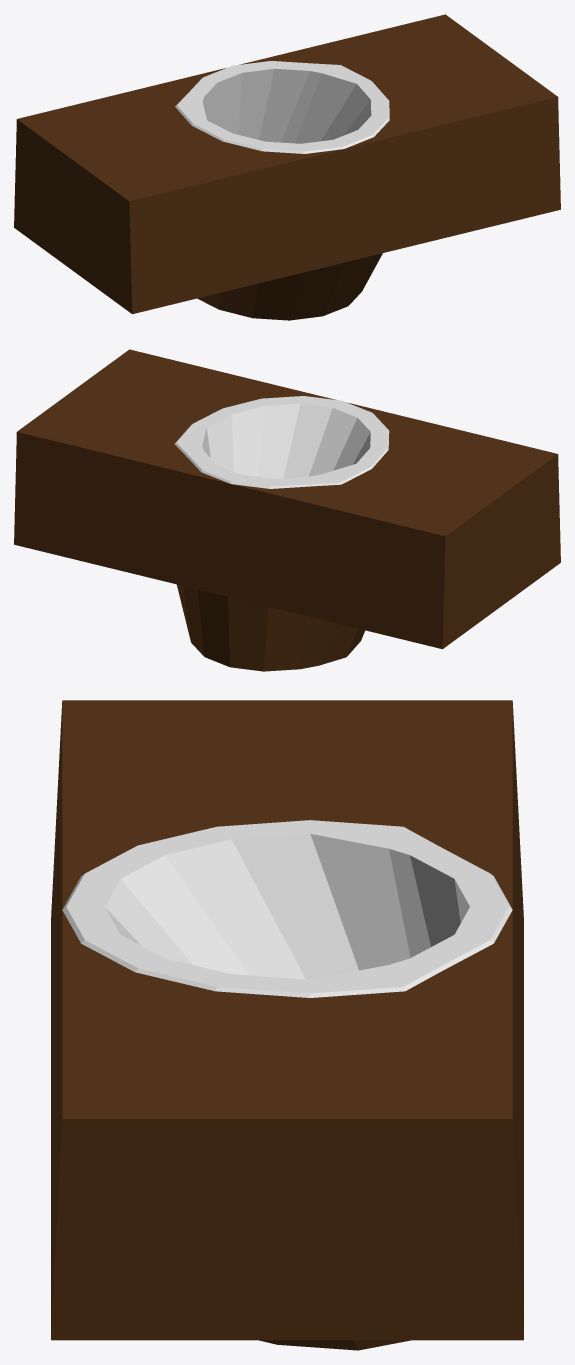
Rendered from inodoro madera.fbx.
The picture shows the model from 3 angles, top to bottom: view 1: azimuth 30°, elevation 25°; view 2: azimuth 150°, elevation 25°; view 3: azimuth 270°, elevation 25°; orthographic projection. The views are drawn at different scales.
Visible parts, largest first — view 1: Cylinder; view 2: Cylinder; view 3: Cylinder.
Boxes of the visible parts, box(x1,y1,x2,y2) form: Cylinder: box(14, 14, 560, 320); Cylinder: box(14, 349, 560, 671); Cylinder: box(51, 700, 523, 1350).
Bounding box in the file's own units: 399 × 164 × 191.
